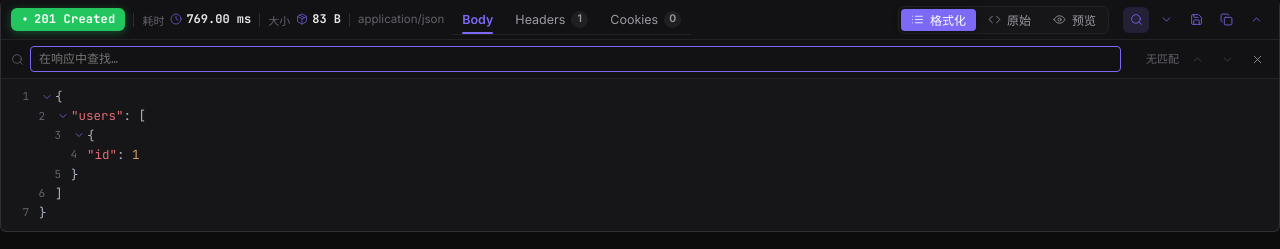
Test: ResponsePanel：查找（Find in Response） › 无匹配时显示「无匹配」且高亮为零
Type "id" into the field with class "findbar-input".
click(576, 59); type("id")  # box left=30, top=46, right=1121, bottom=72
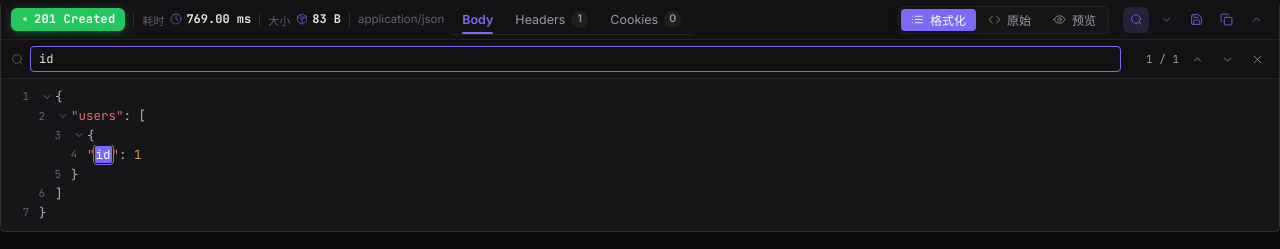
Replace the text in the field with class "findbar-input" with "zzz" at (576, 59), box left=30, top=46, right=1121, bottom=72
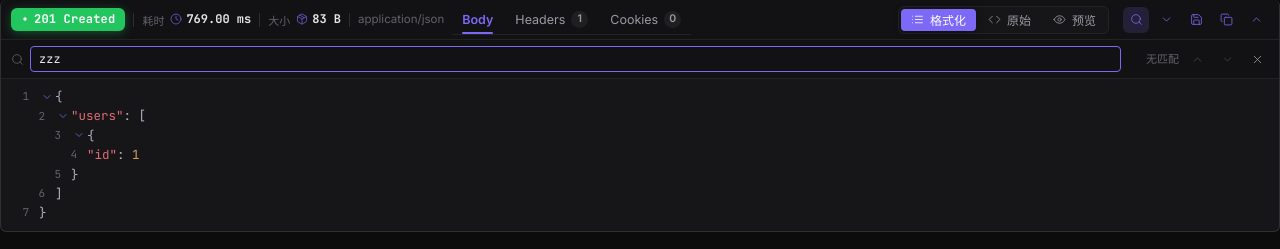
expect the text "无匹配" is shown: met, box left=1146, top=52, right=1179, bottom=66
expect no elements with class "jt-mark" are shown: met
